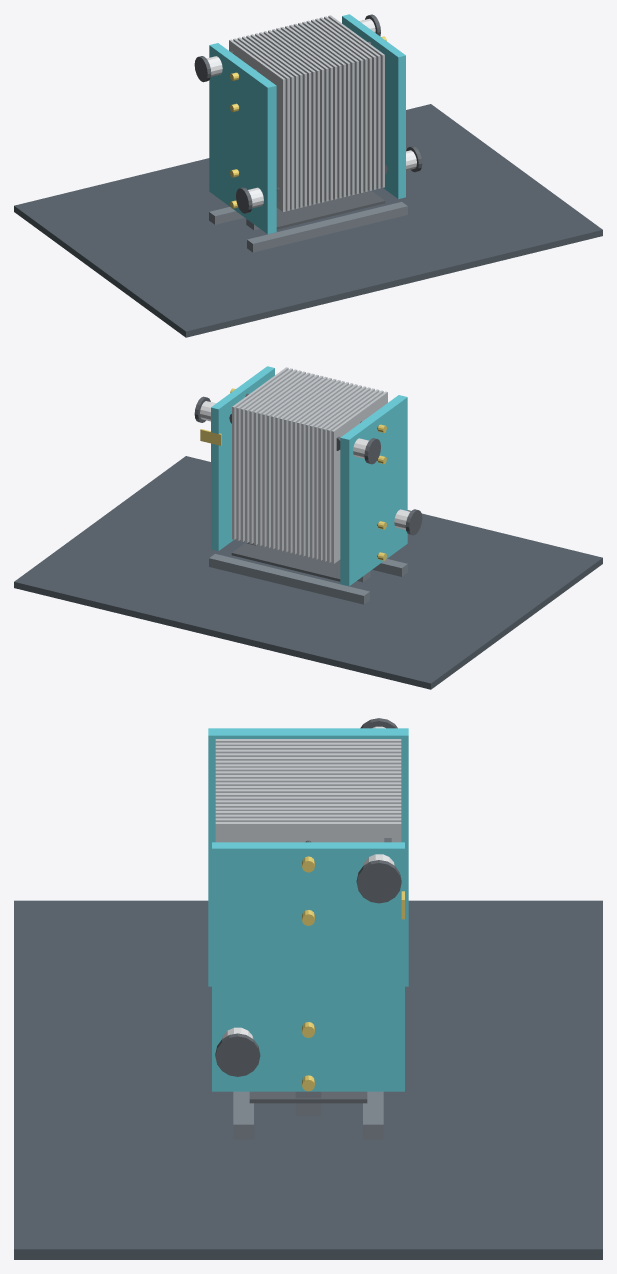
3 views of the same model, one above another, from view 1: azimuth 30°, elevation 25°; view 2: azimuth 150°, elevation 25°; view 3: azimuth 270°, elevation 25° (orthographic). The views are drawn at different scales.
Parts seen in each view (by area): view 1: Ground, FixedFrame, PressurePlate, SkidRight, Plate_0, DrainTray, Plate_12, Plate_2, Plate_4, Plate_15, Plate_18, Plate_21 (+17 smaller); view 2: Ground, FixedFrame, PressurePlate, SkidLeft, Plate_0, DrainTray, Plate_12, Plate_2, Plate_4, Plate_15, Plate_18, Plate_21 (+17 smaller); view 3: Ground, PressurePlate, FixedFrame, Plate_23, Flange_Right_Top, Flange_Right_Bottom, DrainTray, SkidLeft, SkidRight, Plate_3, Plate_6, Plate_8 (+20 smaller).
Part boxes in pixels (bbox=[...]): Ground: bbox=[14, 104, 602, 337]; FixedFrame: bbox=[209, 43, 276, 234]; PressurePlate: bbox=[342, 14, 405, 198]; SkidRight: bbox=[247, 202, 407, 252]; Plate_0: bbox=[229, 39, 285, 211]; DrainTray: bbox=[276, 190, 385, 229]; Plate_12: bbox=[280, 27, 337, 199]; Plate_2: bbox=[237, 37, 294, 209]; Plate_4: bbox=[246, 35, 302, 207]; Plate_15: bbox=[293, 23, 350, 196]; Plate_18: bbox=[306, 20, 363, 192]; Plate_21: bbox=[319, 17, 376, 189]; Ground: bbox=[14, 456, 602, 689]; FixedFrame: bbox=[340, 395, 407, 586]; PressurePlate: bbox=[211, 366, 274, 550]; SkidLeft: bbox=[209, 554, 369, 604]; Plate_0: bbox=[331, 391, 387, 563]; DrainTray: bbox=[231, 542, 340, 581]; Plate_12: bbox=[279, 379, 336, 551]; Plate_2: bbox=[322, 389, 379, 561]; Plate_4: bbox=[314, 387, 370, 559]; Plate_15: bbox=[266, 375, 323, 548]; Plate_18: bbox=[253, 372, 310, 544]; Plate_21: bbox=[240, 369, 297, 541]; Ground: bbox=[14, 900, 602, 1259]; PressurePlate: bbox=[212, 842, 404, 1091]; FixedFrame: bbox=[208, 728, 408, 986]; Plate_23: bbox=[215, 822, 401, 842]; Flange_Right_Top: bbox=[356, 860, 401, 903]; Flange_Right_Bottom: bbox=[215, 1033, 260, 1076]; DrainTray: bbox=[249, 1091, 367, 1103]; SkidLeft: bbox=[363, 1091, 383, 1139]; SkidRight: bbox=[233, 1091, 253, 1139]; Plate_3: bbox=[215, 749, 401, 753]; Plate_6: bbox=[215, 760, 401, 764]; Plate_8: bbox=[215, 767, 401, 771].
Bounding box in the file's own units: 14 × 5.67 × 10.
